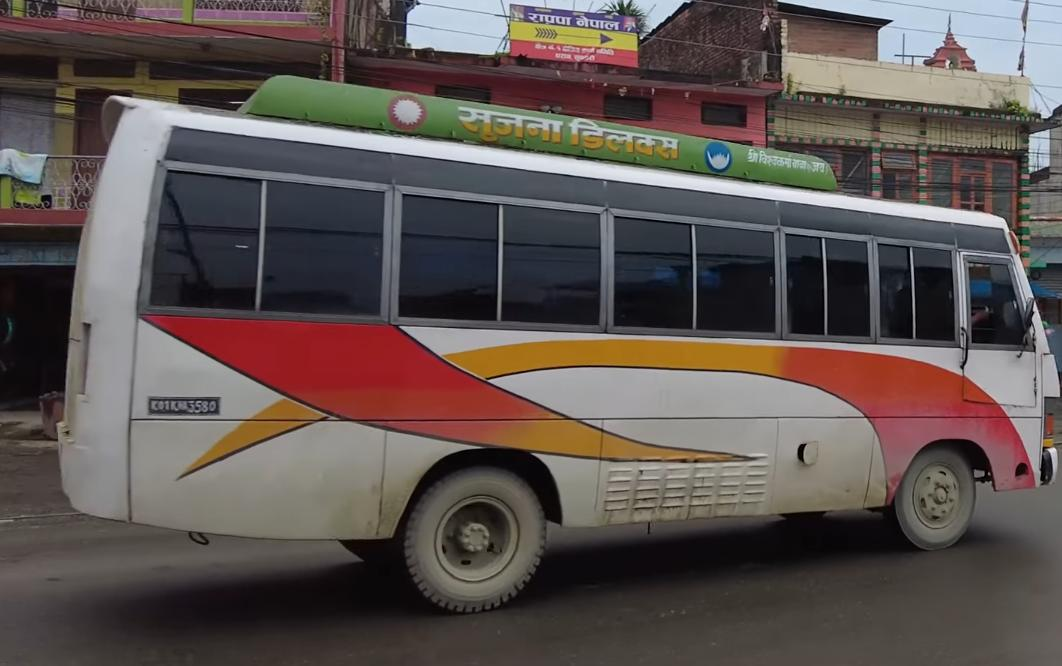bus: (42, 60, 1049, 625)
